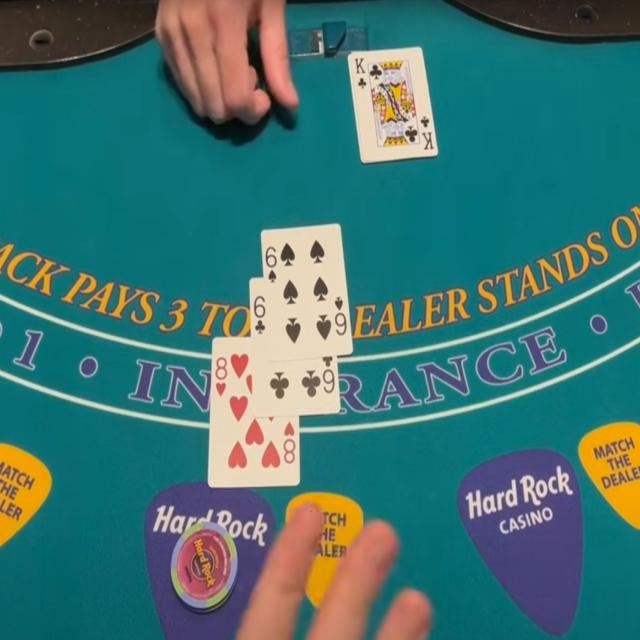6: (262, 243, 281, 268), (252, 293, 267, 320)
8: (212, 354, 230, 382)
K: (353, 56, 367, 75)
